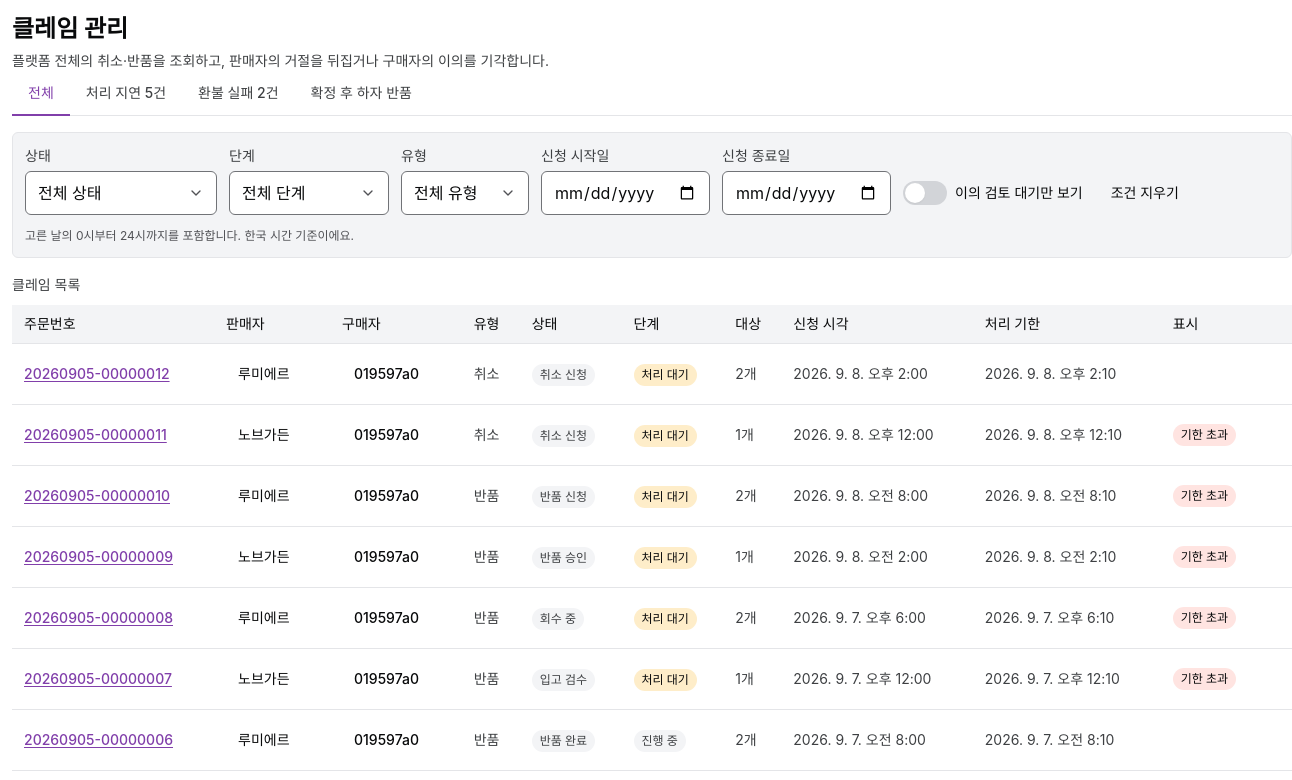
it: narrowing the queue › says an empty queue is empty *because of the filter*
# 대역이 말하는 「지금」보다 뒤의 날짜. 조건이 없었다면 열두 건이 있는 자리다.
Type "2026-09-09" into the date field labelled "신청 시작일" at {"x": 626, "y": 193}, box [541,171,710,215]
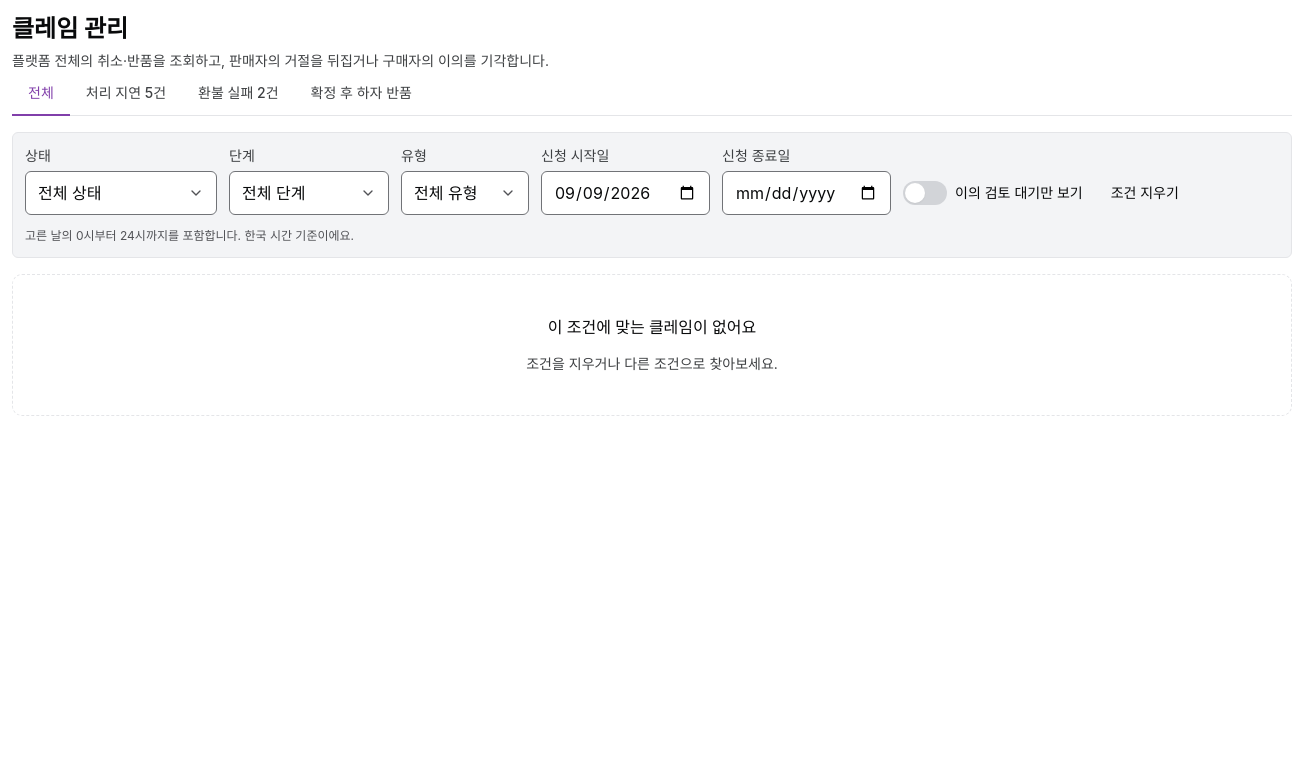
Now the text "이 조건에 맞는 클레임이 없어요" is shown, box [548,315,756,341]
